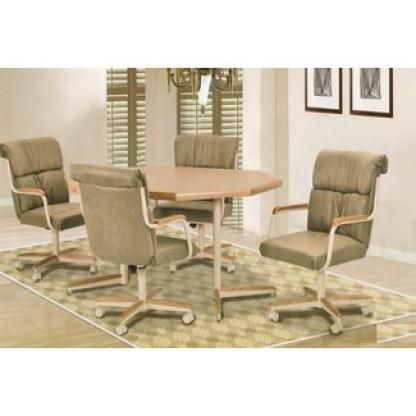chair: (253, 139, 391, 337), (65, 159, 201, 341), (149, 130, 243, 279), (0, 134, 82, 280)
table: (30, 167, 293, 319)
